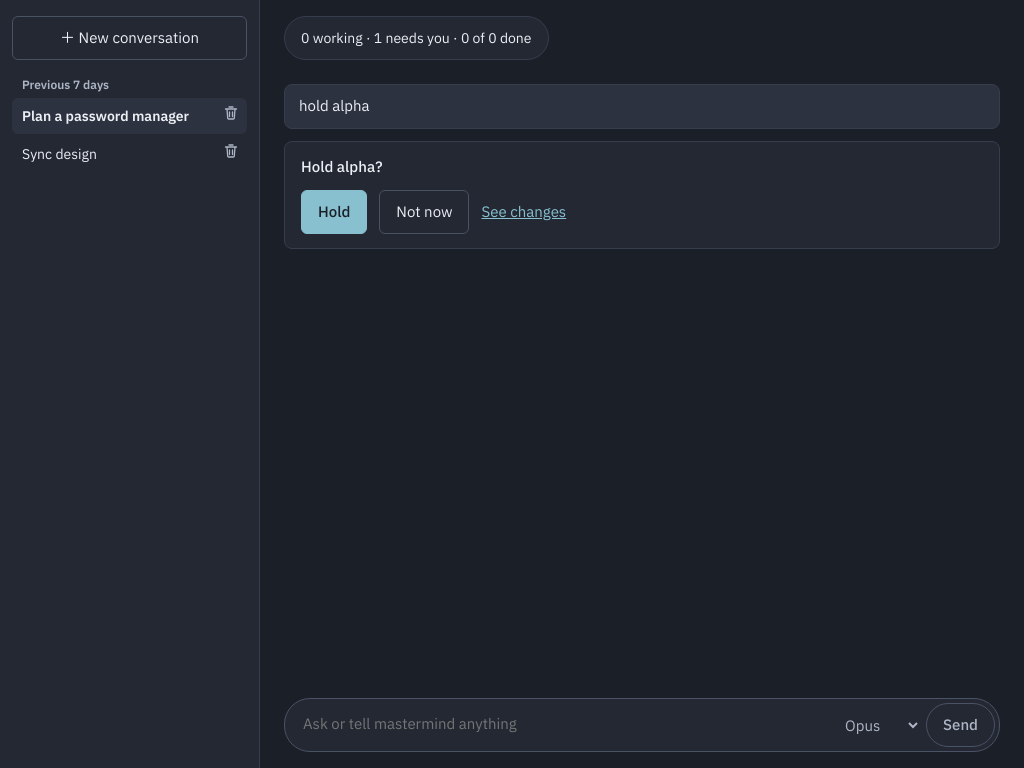
Test case: chat screen › links a stored decision to its task's changes, and Not now declines it
The width and height of the screenshot is (1024, 768).
Step 1. Click the button "Not now" → click(424, 212), box [379,190,470,234]
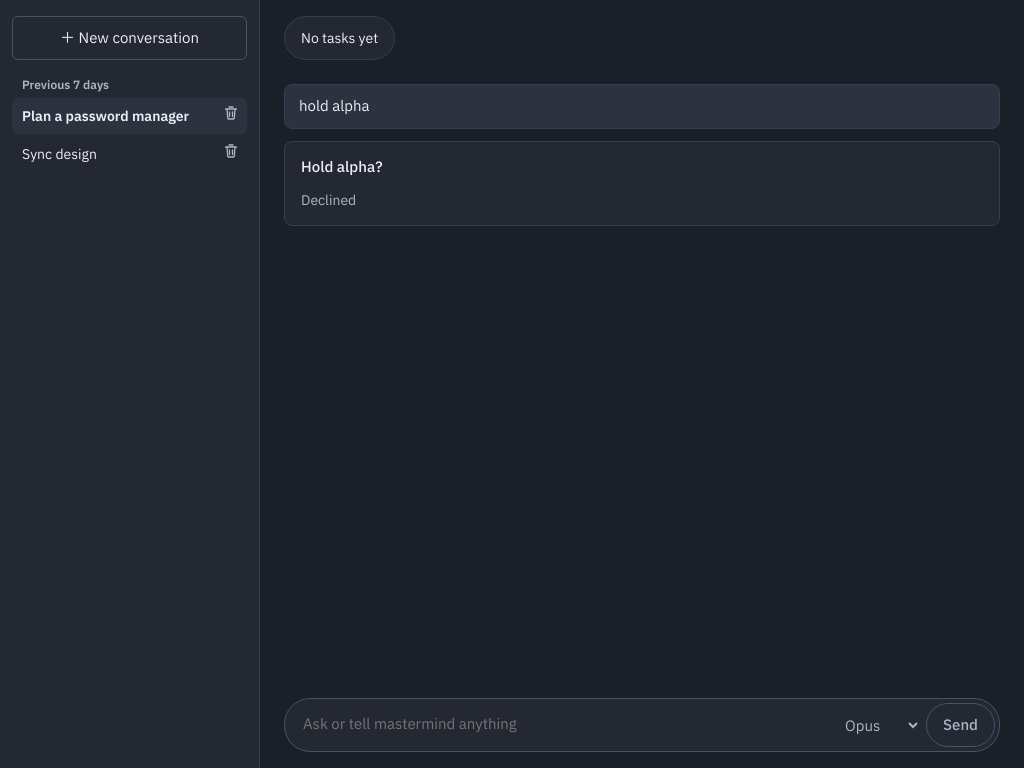
Expected: the element named "Decision" shows "Declined", [301,191,356,209]
